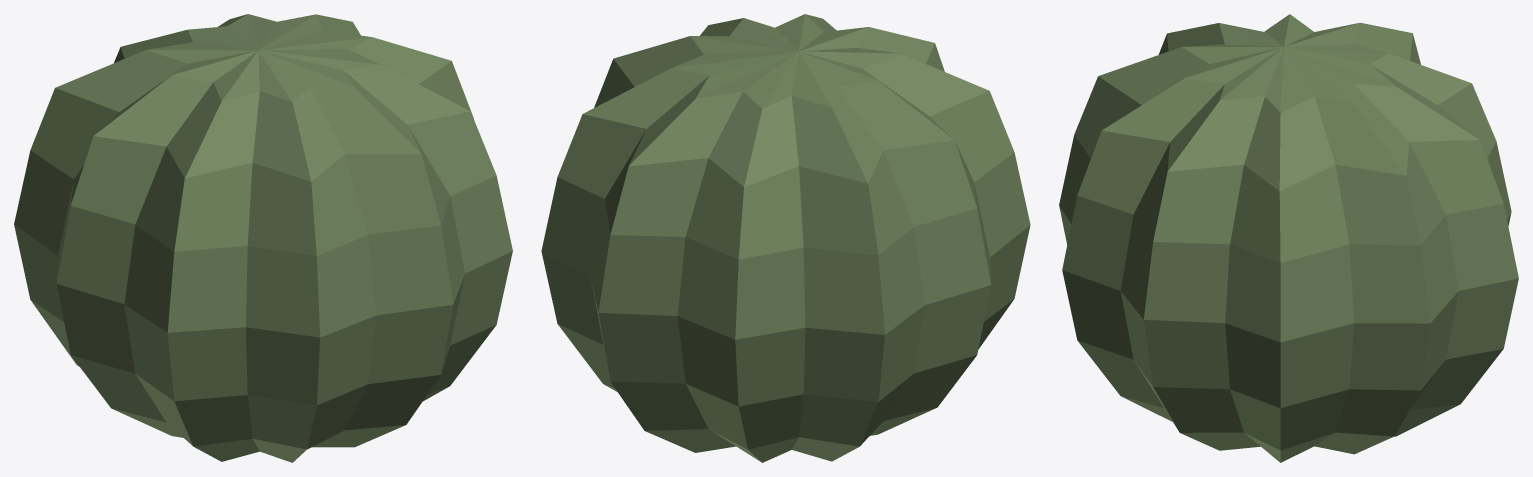
File: FBX Cactus 3.fbx
The picture shows the model from 3 angles, left to right: view 1: azimuth 30°, elevation 25°; view 2: azimuth 150°, elevation 25°; view 3: azimuth 270°, elevation 25°; orthographic projection. The views are drawn at different scales.
Visible parts, largest first — view 1: Cactus rond; view 2: Cactus rond; view 3: Cactus rond.
Boxes of the visible parts, x1,y1,x2,y2 form: Cactus rond: [14, 14, 512, 462]; Cactus rond: [541, 14, 1030, 462]; Cactus rond: [1059, 14, 1518, 462].
Bounding box in the file's own units: 90.64 × 79.09 × 87.18.
